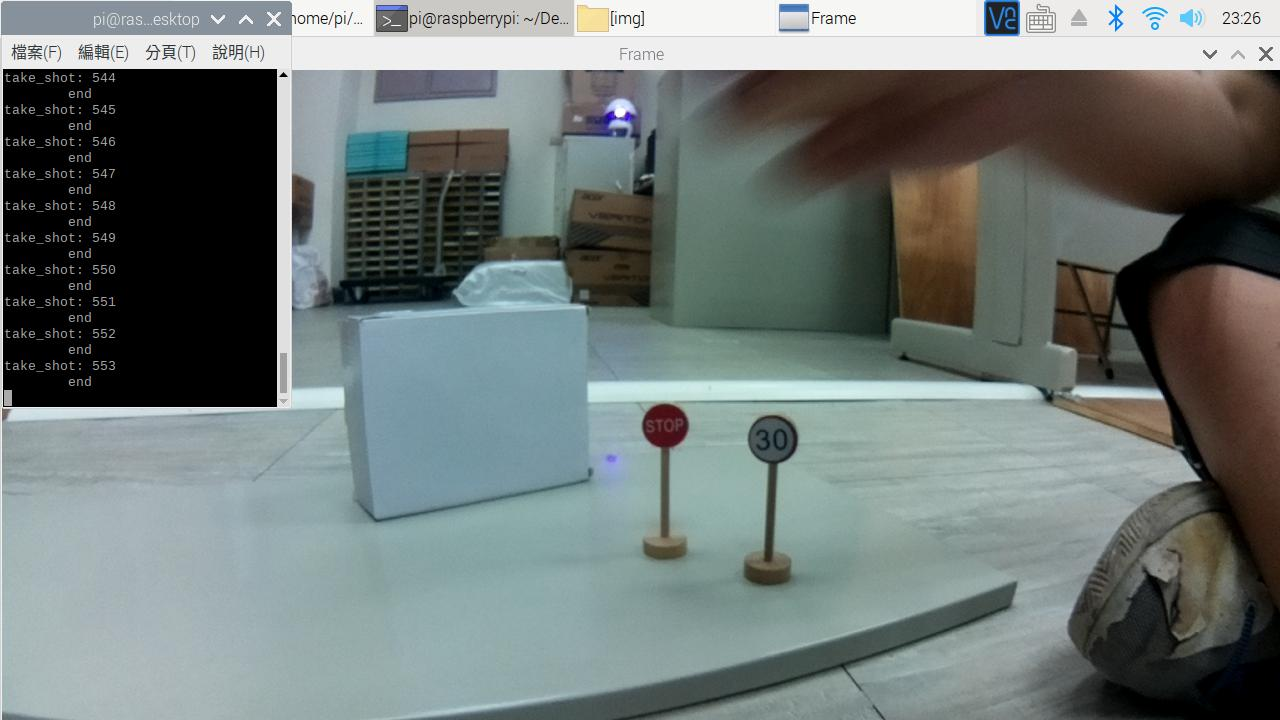Speed30: (744, 412, 812, 474)
Stop: (622, 395, 704, 464)
